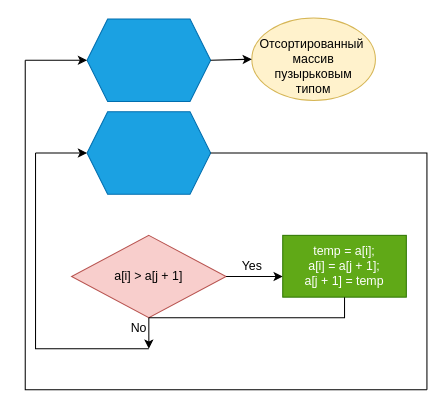
This 446x409 diagram has some shape labels left out. Each missing label, with the centre of its shape:
"i = 0; i <= N - 1; i++" goes at point (148, 59).
"j = 0; j <= N - 2; j++" goes at point (148, 152).
